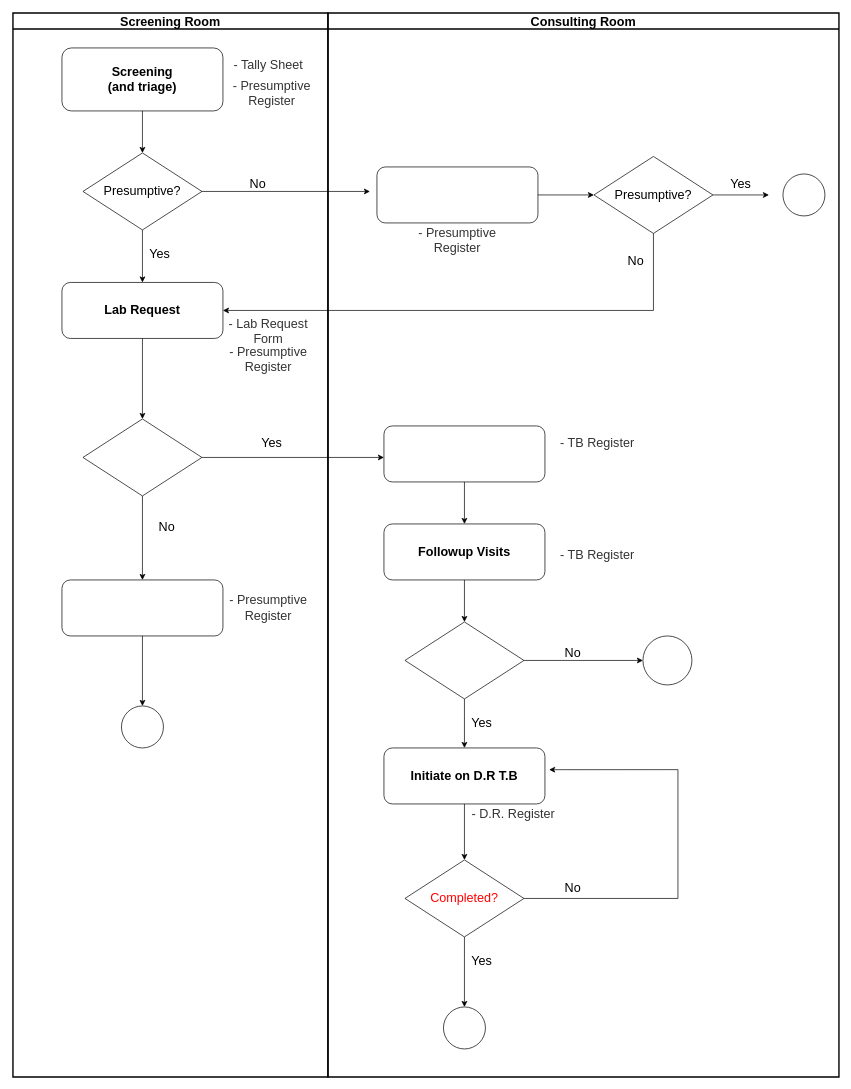
Some shapes in this 851 by 1089 pixel diagram are drawn without their labels. Here are the shapes that lost their labels. From the top down, the centre of each, then its label:
the point at 457,194: Secondary Screening
the point at 142,457: Test Results Positive?
the point at 464,453: Initiate
the point at 142,607: Followup to check signs again
the point at 464,660: Drug Resistant?
